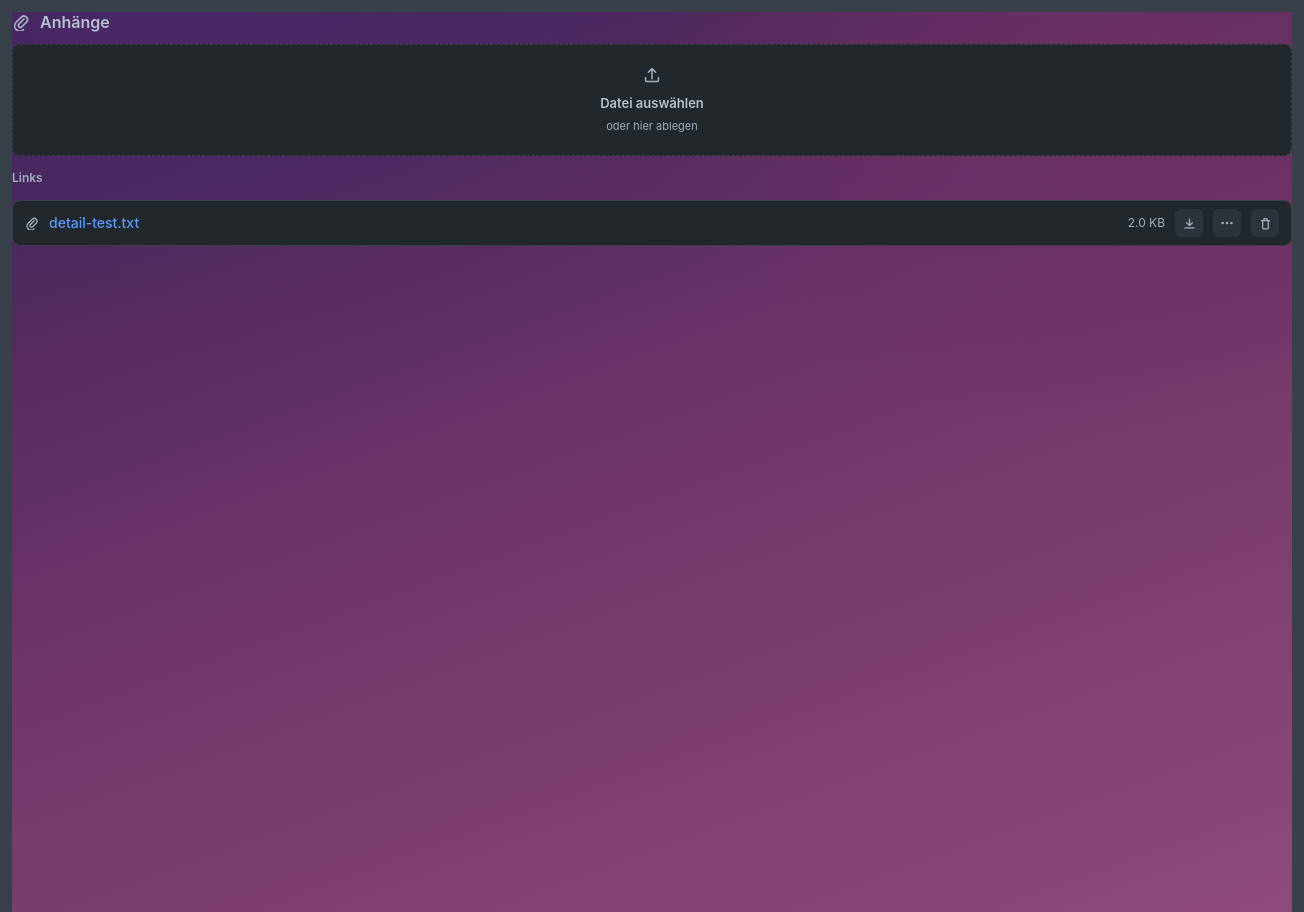
Test case: CardAttachments › keeps the rename open with the typed name when the rename fails
Click the button named "Umbenennen": (1227, 223) [1213,209,1241,237]
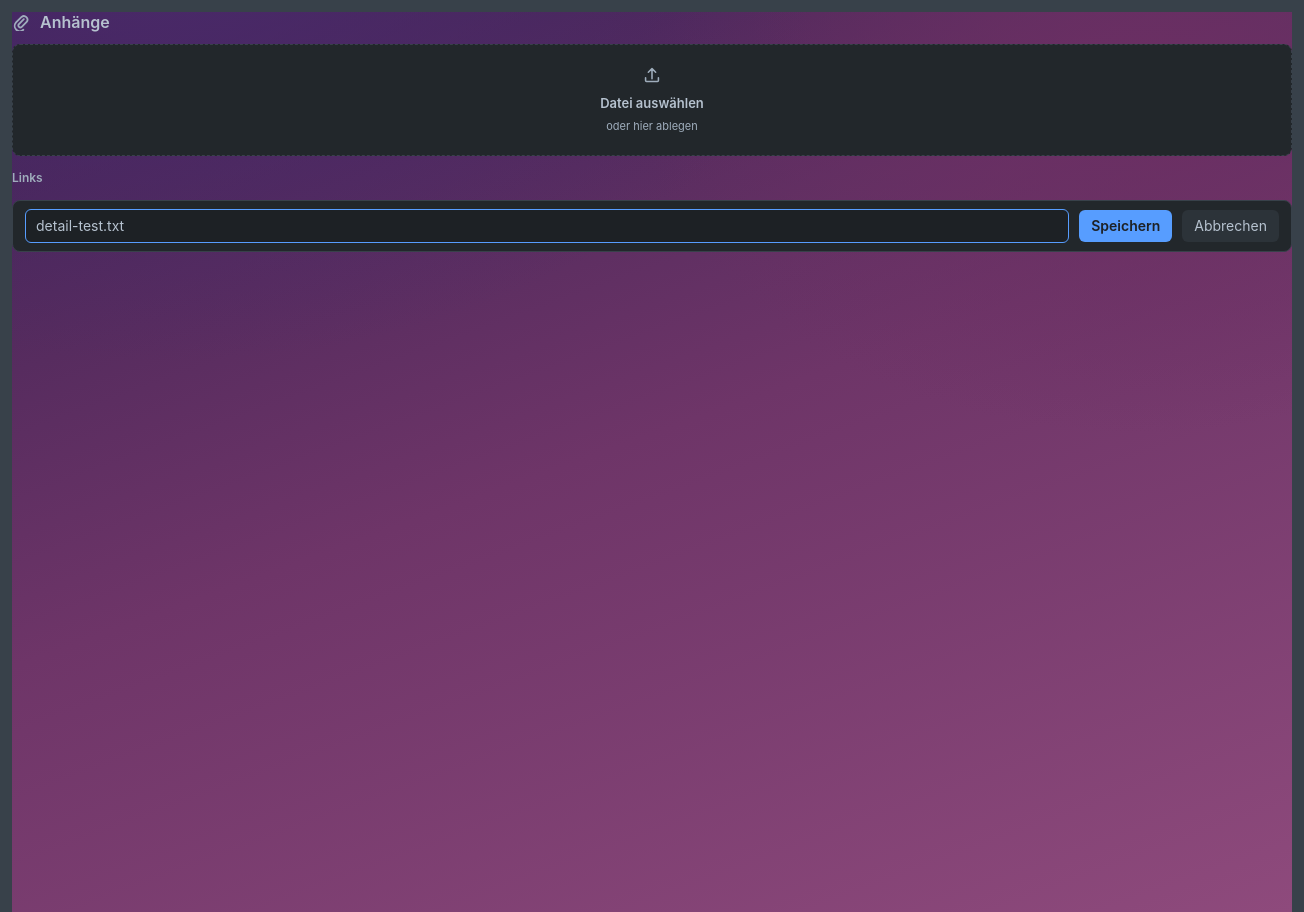
Replace the text in the field named "Name des Anhangs" with "detail-renamed.txt": (547, 226) [25,209,1069,243]
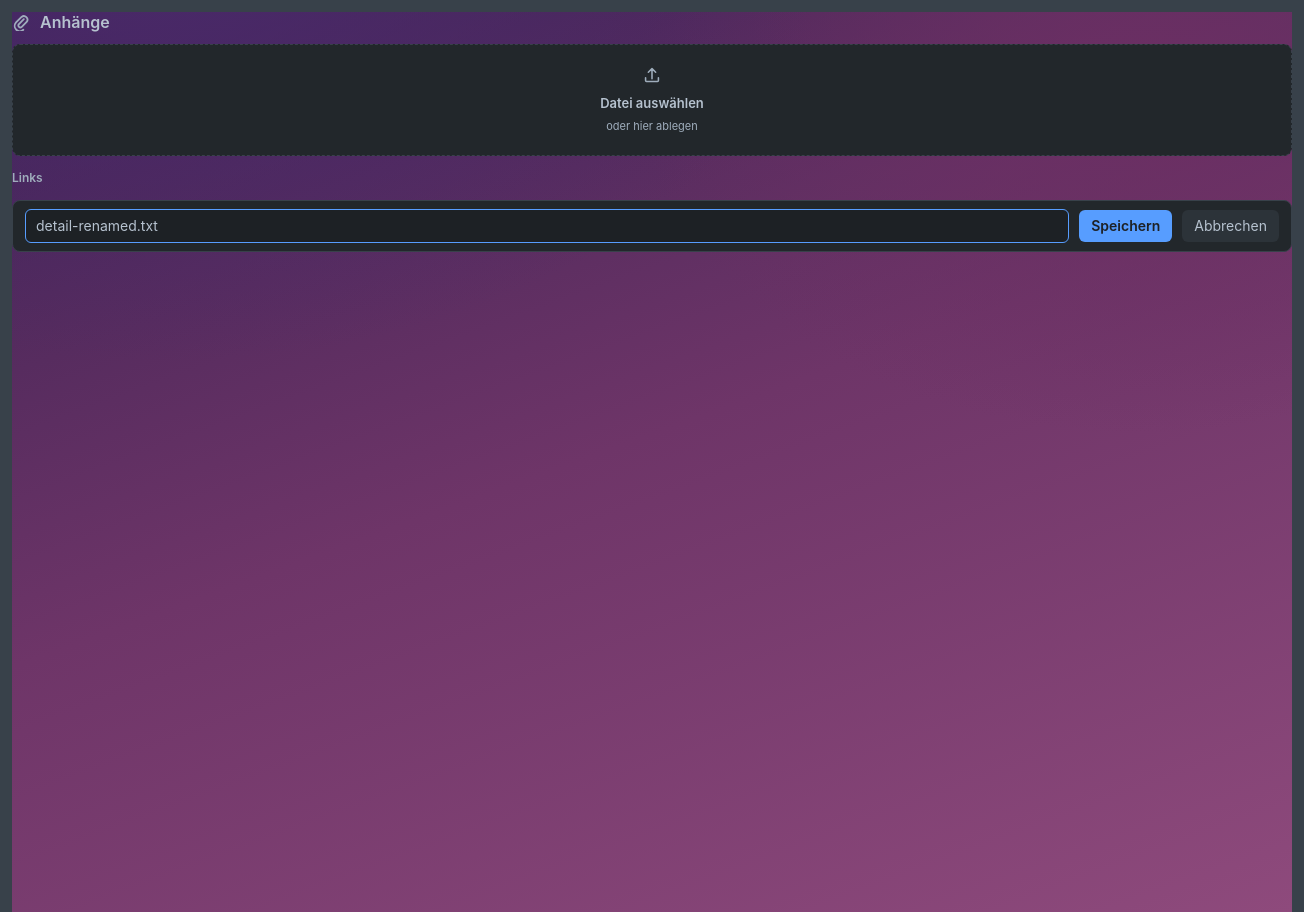
Click the button "Speichern": (1126, 226) [1079,210,1172,242]
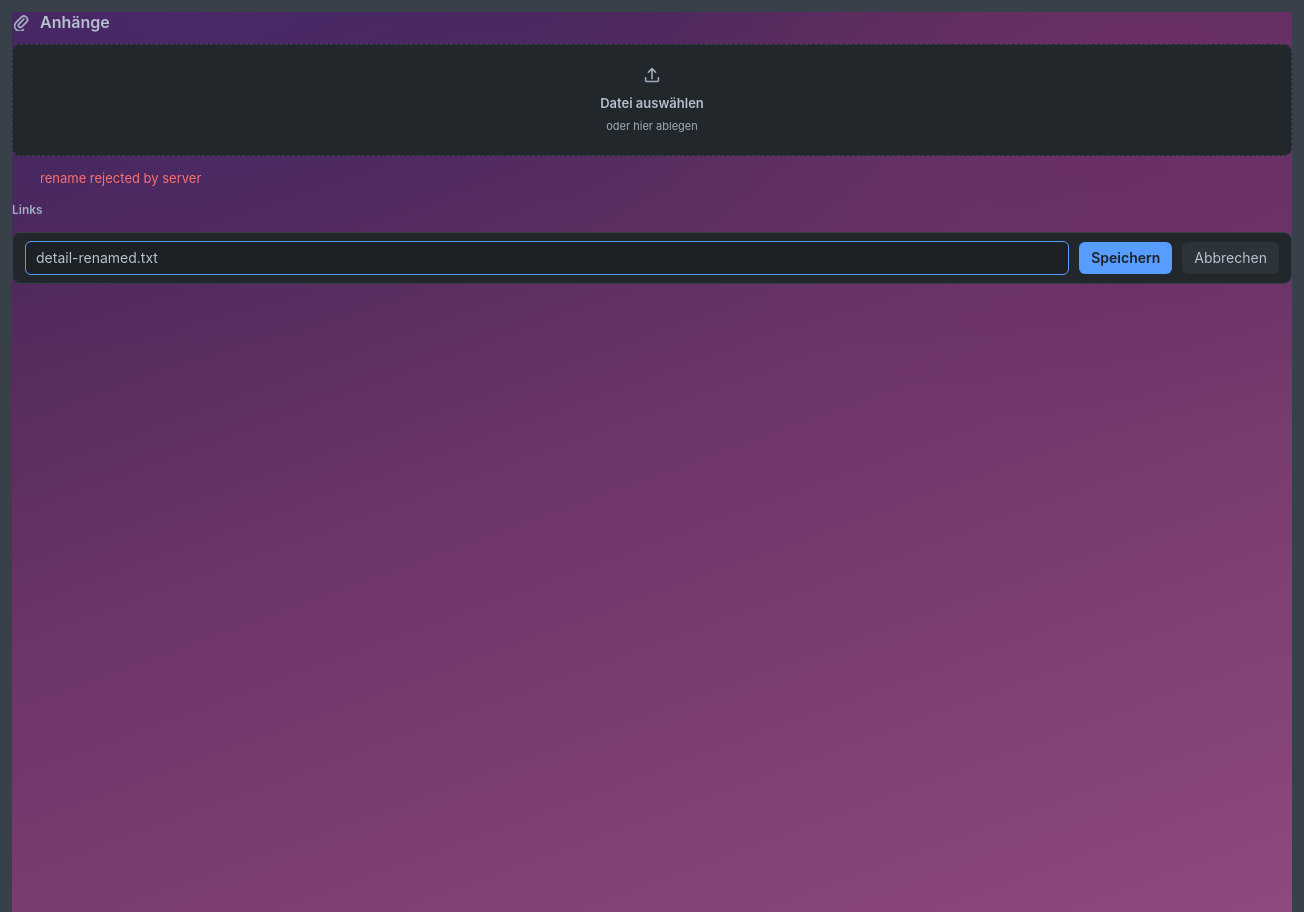
expect the message reads "rename rejected by server": met, box [40,170,201,186]
